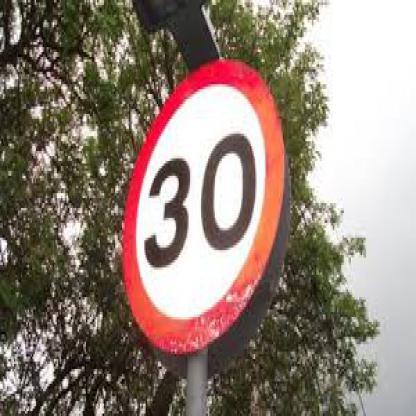Speed Limit 30: (128, 62, 272, 346)
